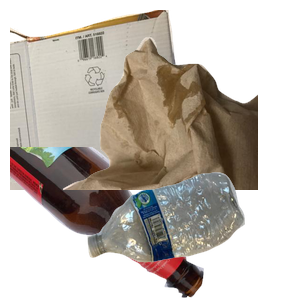cardboard: (10, 10, 191, 190)
glass: (10, 147, 207, 300)
plastic: (85, 170, 300, 300)
trash: (60, 35, 300, 215)
